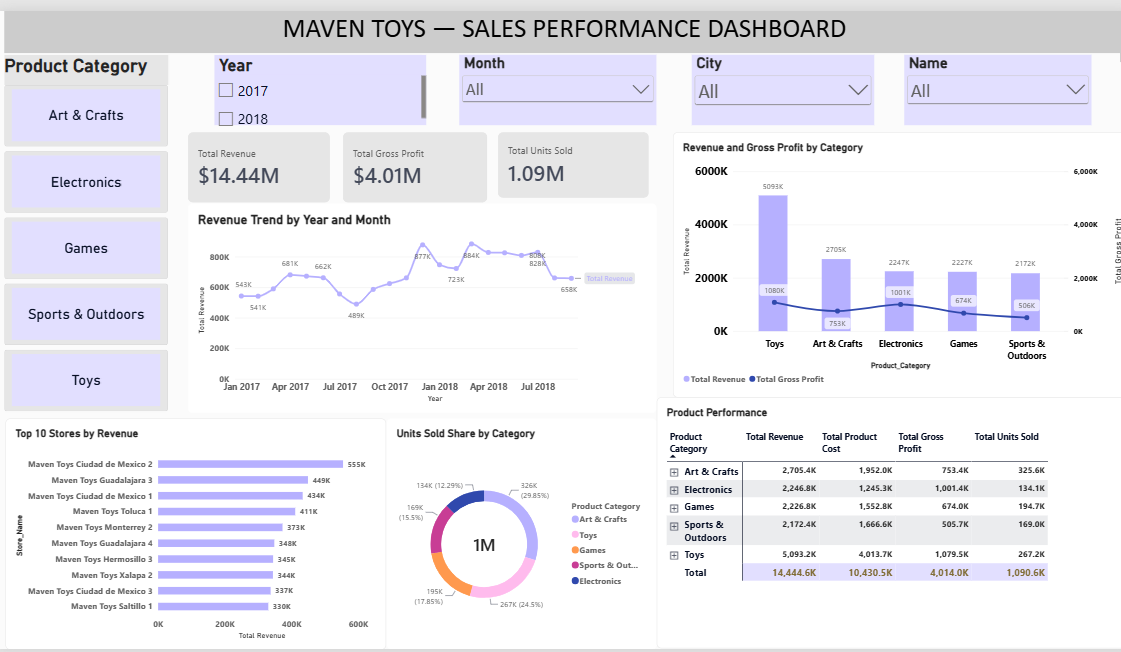

This screenshot's page, from the dashboard's own definition file:
{"tool":"powerbi","page":{"name":"Sales Overview","canvas":[1920,1080],"ordinal":0},"visuals":[{"type":"textbox","title":"MAVEN TOYS — SALES PERFORMANCE DASHBOARD","box":[10.3,0,1895.7,86.4],"z":0},{"type":"slicer","fields":{"Values":["sales.Date.Variation.Date Hierarchy.Year"]},"box":[366.4,74.1,358.1,119.4],"z":1000},{"type":"slicer","fields":{"Values":["sales.Date.Variation.Date Hierarchy.Month"]},"box":[780.1,74.1,333.4,119.4],"z":2000},{"type":"slicer","fields":{"Values":["stores.Store_City"]},"box":[1173.2,74.1,308.7,119.4],"z":3000},{"type":"slicer","fields":{"Values":["stores.Store_Name"]},"box":[1533.5,74.1,317,119.4],"z":4000},{"type":"cardVisual","fields":{"Data":["sales.Total Revenue"]},"box":[321.1,205.8,240.8,119.4],"z":5000},{"type":"cardVisual","fields":{"Data":["sales.Total Units Sold"]},"box":[846,205.8,255.2,111.1],"z":6000},{"type":"cardVisual","fields":{"Data":["sales.Total Gross Profit"]},"box":[584.6,205.8,244.9,119.4],"z":7000},{"type":"lineChart","title":"Revenue Trend by Year and Month","fields":{"Category":["sales.Date.Variation.Date Hierarchy.Year","sales.Date.Variation.Date Hierarchy.Month"],"Y":["sales.Total Revenue"]},"box":[321.1,325.2,792.5,354],"z":8000},{"type":"advancedSlicerVisual","title":"Product Category","fields":{"Values":["products.Product_Category"]},"box":[10.3,74.1,277.9,605.1],"z":9000},{"type":"lineClusteredColumnComboChart","title":"Revenue and Gross Profit by Category","fields":{"Category":["products.Product_Category"],"Y":["sales.Total Revenue"],"Y2":["sales.Total Gross Profit"]},"box":[1142.4,205.8,778,448.7],"z":10000},{"type":"clusteredBarChart","title":"Top 10 Stores by Revenue","fields":{"Category":["stores.Store_Name"],"Y":["sales.Total Revenue"]},"box":[12.3,689.5,644.3,391.1],"z":11000},{"type":"donutChart","title":"Units Sold Share by Category","fields":{"Category":["products.Product_Category"],"Y":["sales.Total Units Sold"]},"box":[657.8,689.5,457,390],"z":12000},{"type":"pivotTable","title":"Product Performance","fields":{"Rows":["products.Product_Category","products.Product_Name"],"Values":["sales.Total Revenue","sales.Total Product Cost","sales.Total Gross Profit","sales.Total Units Sold"]},"box":[1114.6,653.5,805.8,425.1],"z":13000}]}

Visuals, with their boxes on the page's 1920x1080 design canvas (x1, y1, x2, y2). These are canvas units, not pixel positions in the 1121x652 screenshot, which may show the page scaled, cropped or inside an application window:
"MAVEN TOYS — SALES PERFORMANCE DASHBOARD" textbox: l=10, t=0, r=1906, b=86
slicer - sales.Date.Variation.Date Hierarchy.Year: l=366, t=74, r=724, b=194
slicer - sales.Date.Variation.Date Hierarchy.Month: l=780, t=74, r=1114, b=194
slicer - stores.Store_City: l=1173, t=74, r=1482, b=194
slicer - stores.Store_Name: l=1534, t=74, r=1850, b=194
cardVisual - sales.Total Revenue: l=321, t=206, r=562, b=325
cardVisual - sales.Total Units Sold: l=846, t=206, r=1101, b=317
cardVisual - sales.Total Gross Profit: l=585, t=206, r=830, b=325
"Revenue Trend by Year and Month" lineChart: l=321, t=325, r=1114, b=679
"Product Category" advancedSlicerVisual: l=10, t=74, r=288, b=679
"Revenue and Gross Profit by Category" lineClusteredColumnComboChart: l=1142, t=206, r=1920, b=654
"Top 10 Stores by Revenue" clusteredBarChart: l=12, t=690, r=657, b=1081
"Units Sold Share by Category" donutChart: l=658, t=690, r=1115, b=1080
"Product Performance" pivotTable: l=1115, t=654, r=1920, b=1079
